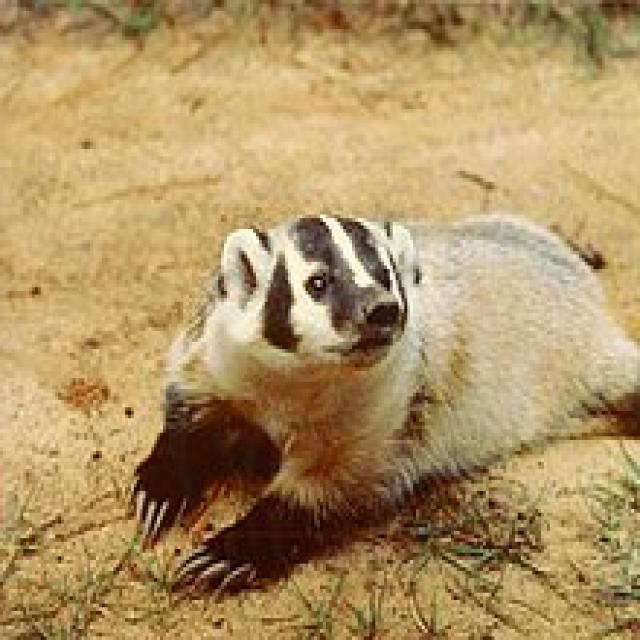badger: (137, 215, 640, 585)
